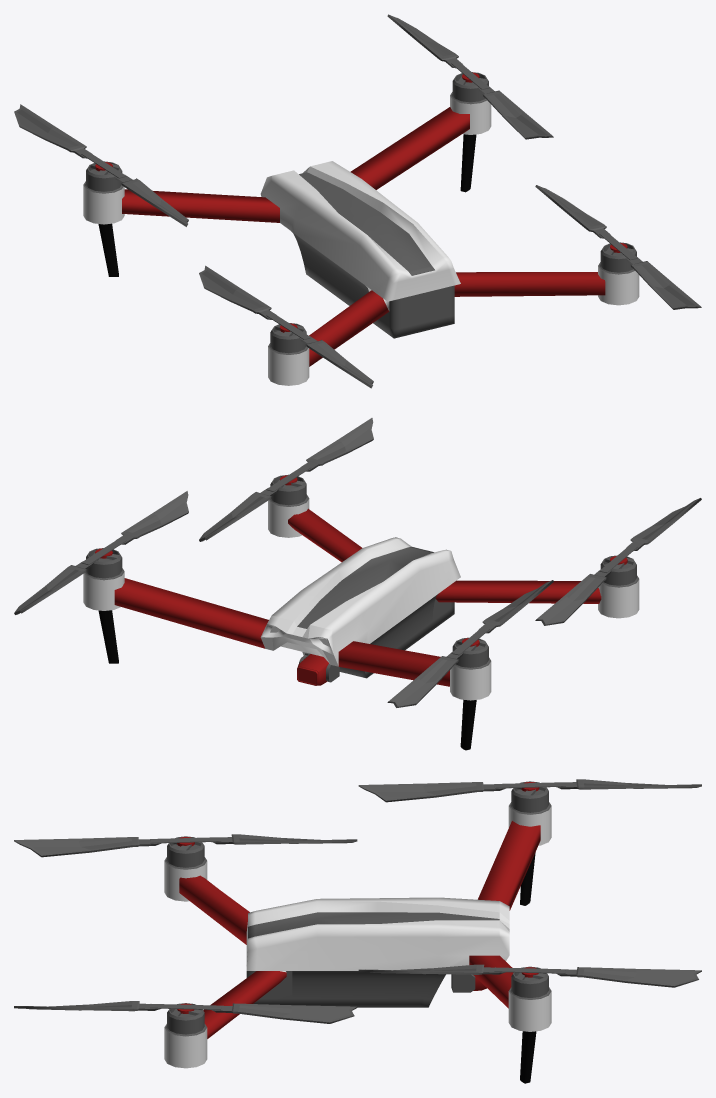
Rendered from drone1.fbx.
3 views of the same model, one above another, from view 1: azimuth 30°, elevation 25°; view 2: azimuth 150°, elevation 25°; view 3: azimuth 270°, elevation 25° (orthographic). The views are drawn at different scales.
Parts seen in each view (by area): view 1: Drone_1, Blades_003, Blades_002, Blades_001, Blades; view 2: Drone_1, Blades_002, Blades_003, Blades_001, Blades; view 3: Drone_1, Blades_001, Blades, Blades_002, Blades_003.
Boxes of the visible parts, <box> form: Drone_1: <box>83,72,639,385</box>; Blades_003: <box>14,104,188,226</box>; Blades_002: <box>199,265,373,388</box>; Blades_001: <box>387,14,553,139</box>; Blades: <box>535,185,701,309</box>; Drone_1: <box>83,474,639,750</box>; Blades_002: <box>535,498,701,625</box>; Blades_003: <box>387,580,553,707</box>; Blades_001: <box>14,491,188,614</box>; Blades: <box>199,418,373,541</box>; Drone_1: <box>164,781,551,1083</box>; Blades_001: <box>358,964,701,987</box>; Blades: <box>14,1001,357,1023</box>; Blades_002: <box>14,834,357,857</box>; Blades_003: <box>358,779,701,802</box>.
Size of the model in its own units: 86 by 22.67 by 123.
